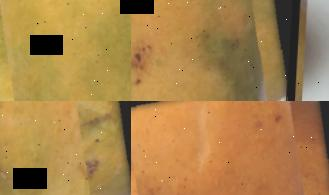PartiallyRipe: (131, 0, 294, 101), (0, 0, 131, 101), (0, 101, 131, 195)
Ripe: (131, 101, 329, 195)
